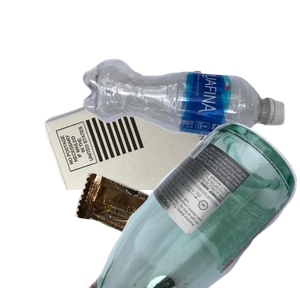glass: (86, 120, 300, 300)
paper: (42, 68, 275, 248)
plastic: (80, 56, 300, 187)
trash: (73, 171, 242, 300)
